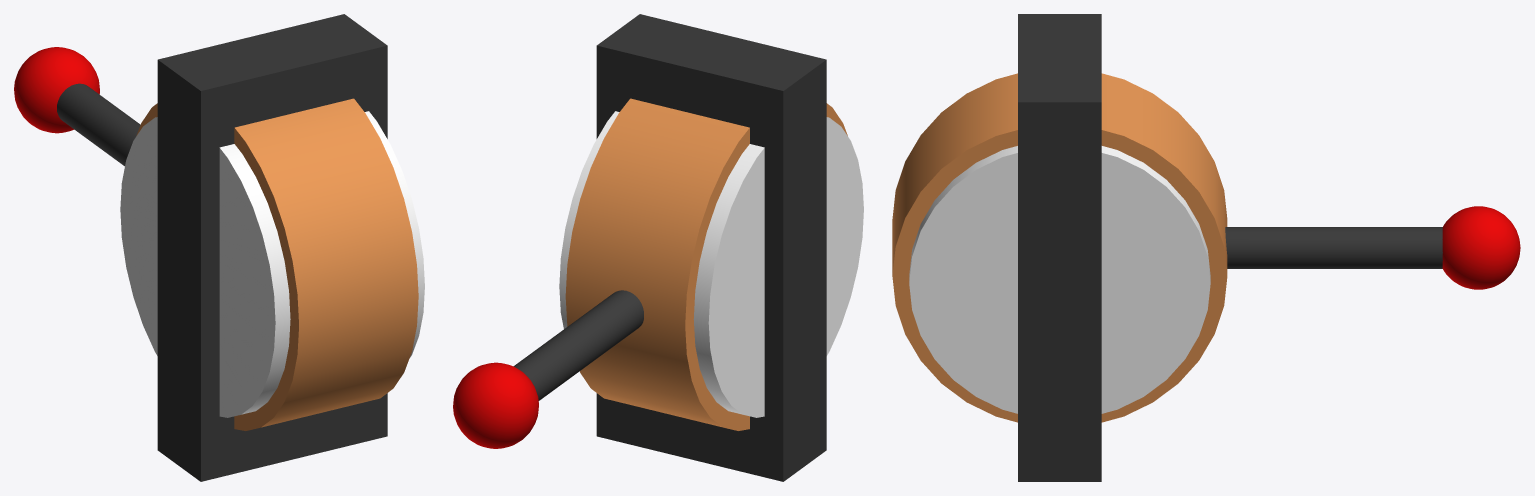
File: Lever.fbx
3 renders of one model, left to right at view 1: azimuth 30°, elevation 25°; view 2: azimuth 150°, elevation 25°; view 3: azimuth 270°, elevation 25°, orthographic. The views are drawn at different scales.
Visible parts, largest first — view 1: Switch Cover, Drum Inner, Drum Outer, Ball, Bar; view 2: Switch Cover, Drum Inner, Drum Outer, Ball, Bar; view 3: Drum Outer, Switch Cover, Drum Inner, Bar, Ball.
Boxes of the visible parts, <box> form: Switch Cover: <box>157,14,387,481</box>; Drum Inner: <box>136,98,418,430</box>; Drum Outer: <box>120,111,424,417</box>; Ball: <box>14,47,99,133</box>; Bar: <box>57,83,140,166</box>; Switch Cover: <box>596,14,826,481</box>; Drum Inner: <box>565,98,847,430</box>; Drum Outer: <box>559,111,863,417</box>; Ball: <box>453,362,538,448</box>; Bar: <box>513,290,643,400</box>; Drum Outer: <box>909,146,1210,413</box>; Switch Cover: <box>1018,14,1101,481</box>; Drum Inner: <box>892,73,1227,422</box>; Bar: <box>1225,227,1442,268</box>; Ball: <box>1442,206,1520,289</box>.
Bounding box in the file's own units: 100 × 200 × 300.
